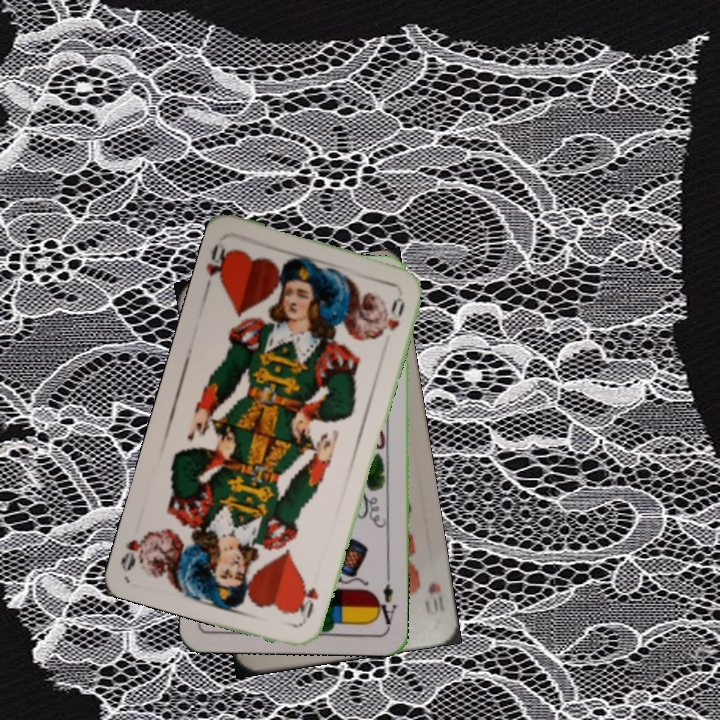EA: (372, 579, 400, 629)
H10: (420, 578, 444, 618)
HO: (200, 236, 235, 294), (295, 579, 321, 621)
